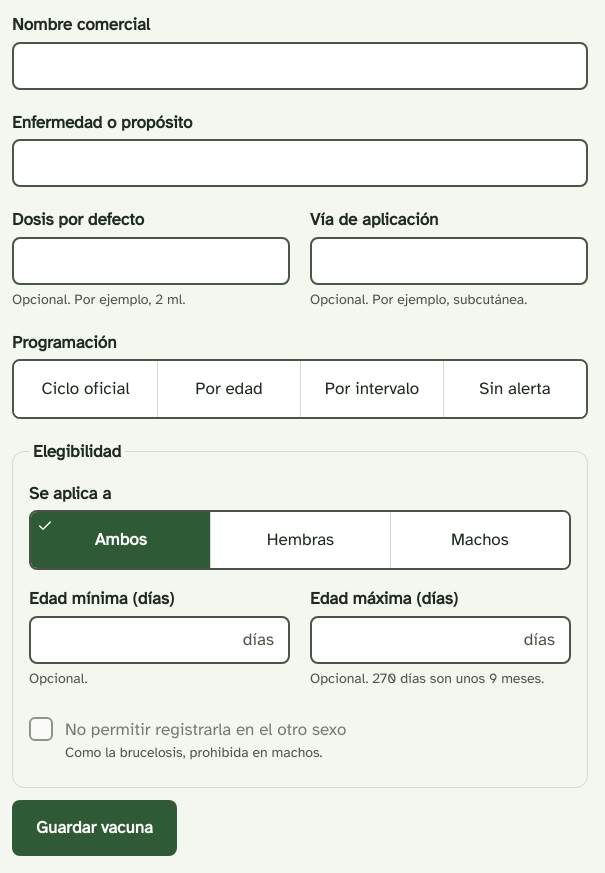
Test: VaccineForm › el bloqueo del otro sexo solo se activa al elegir a qué sexo se aplica
The image size is (605, 873).
Expected: the checkbox labelled "No permitir registrarla en el otro sexo" is disabled, top-left (29, 716), bottom-right (53, 740)
Click the radio button labelled "Hembras" at (300, 540), box top-left (210, 512), bottom-right (390, 568)
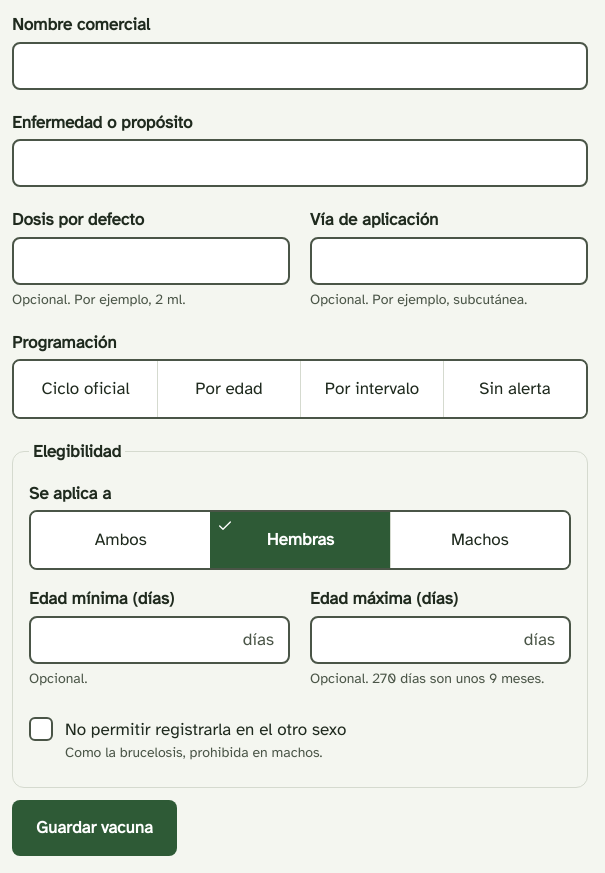
Now the checkbox labelled "No permitir registrarla en el otro sexo" is enabled, box top-left (29, 716), bottom-right (53, 740)
